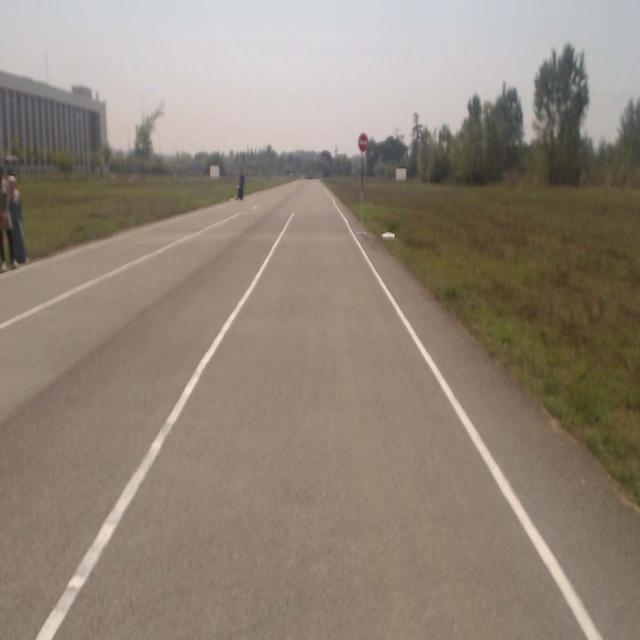girisyok: (358, 134, 368, 150)
